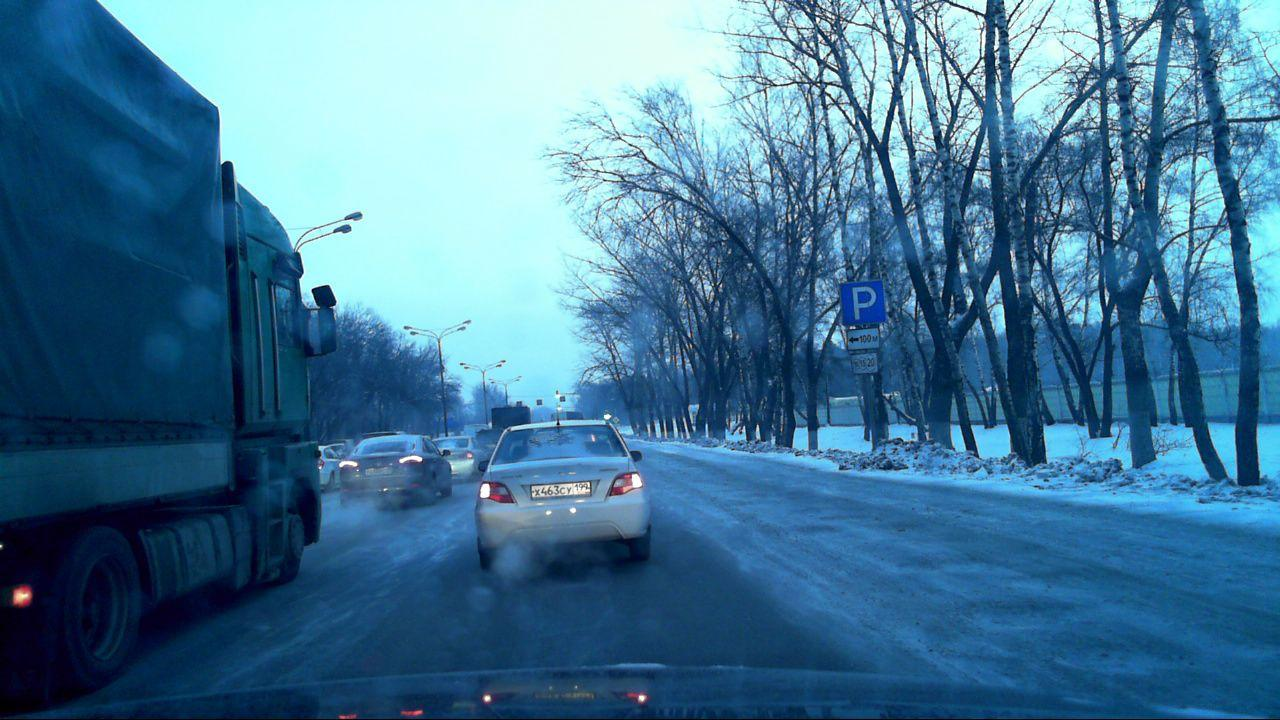6_4: (837, 279, 886, 326)
8_1_4: (844, 327, 881, 350)
8_8: (849, 352, 879, 373)
